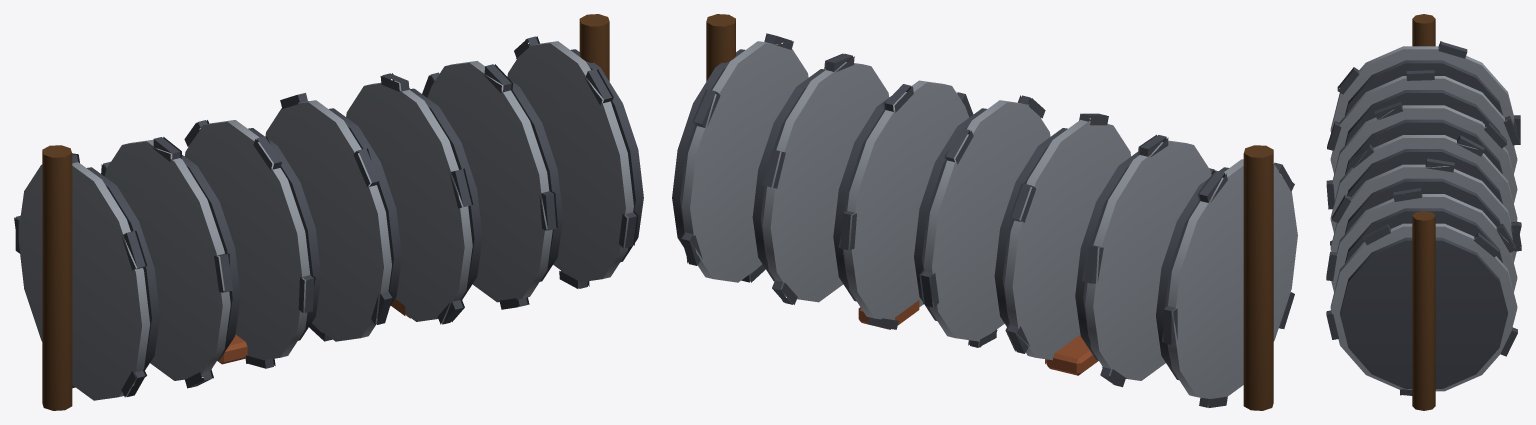
File: wire.glb
The picture shows the model from 3 angles, left to right: view 1: azimuth 30°, elevation 25°; view 2: azimuth 150°, elevation 25°; view 3: azimuth 270°, elevation 25°; orthographic projection. The views are drawn at different scales.
Parts seen in each view (by area): view 1: wire, wire_craft; view 2: wire, wire_craft; view 3: wire.
Part boxes in pixels (box(x1,y1,x2,y2)): wire: box(14, 14, 643, 410); wire_craft: box(217, 299, 410, 364); wire: box(672, 14, 1297, 410); wire_craft: box(858, 300, 1098, 375); wire: box(1326, 14, 1521, 410).
Bounding box in the file's own units: 2.1 × 0.9 × 0.8386.
